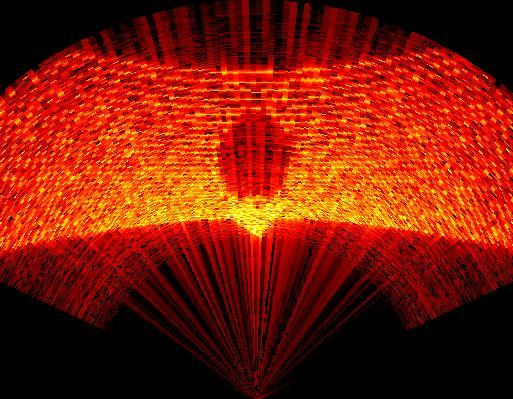box_crate: (214, 110, 292, 204)
